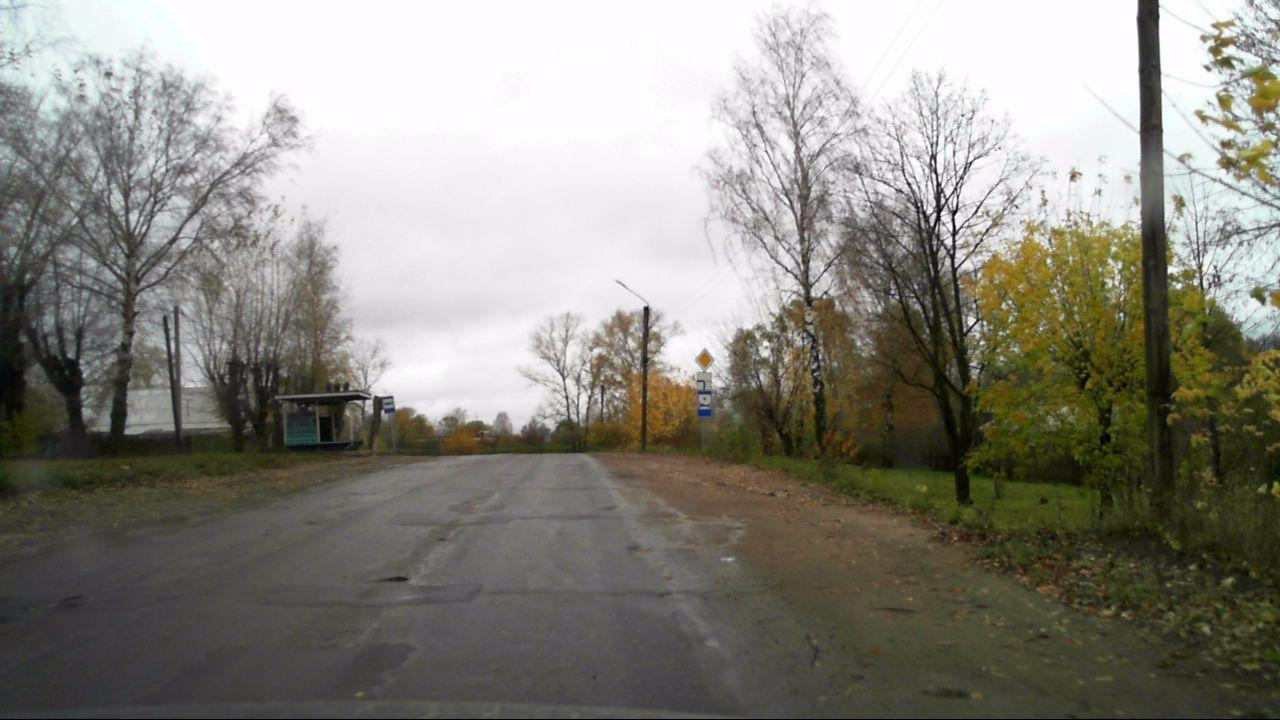2_1: (695, 347, 715, 371)
5_16: (382, 396, 395, 413)
7_2: (696, 391, 712, 415)
8_13: (696, 371, 714, 391)
